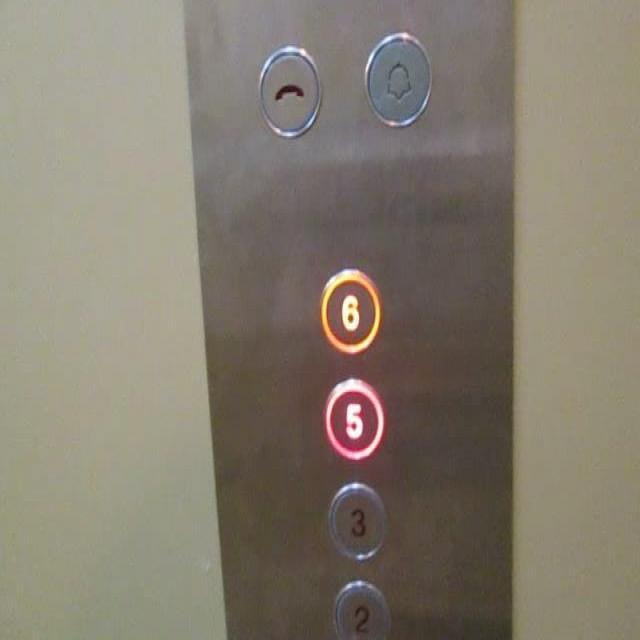2: (330, 576, 395, 639)
3: (325, 479, 389, 560)
5: (322, 375, 385, 460)
6: (317, 266, 383, 358)
alarm: (362, 27, 432, 126)
call: (254, 43, 322, 136)
